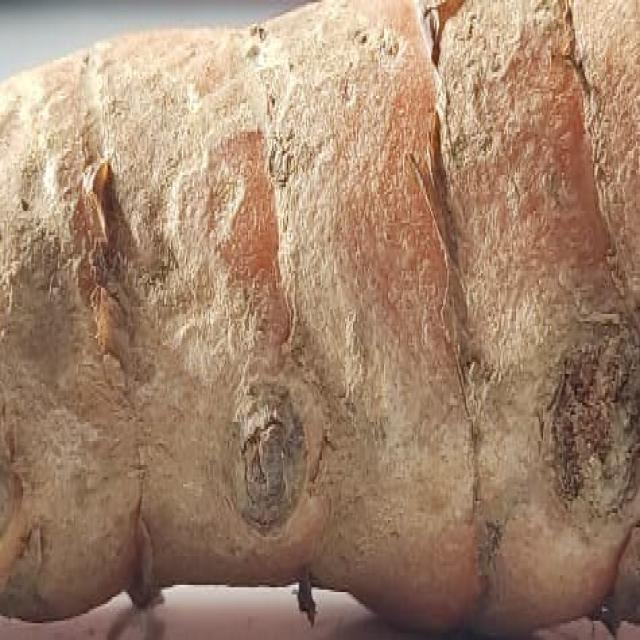ginger: (0, 17, 640, 610)
